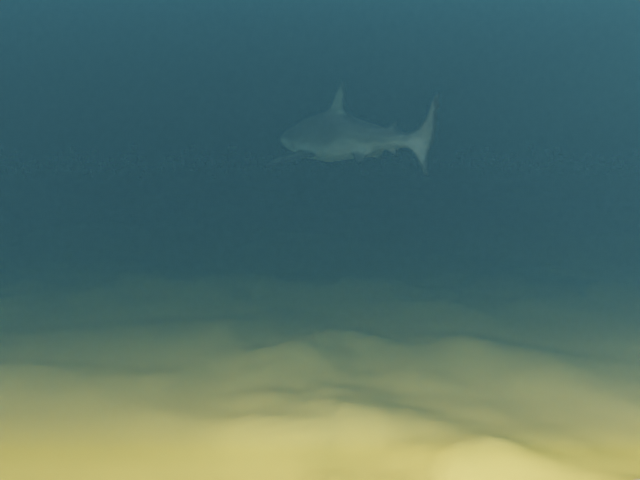Carribean Shark.001: (265, 82, 439, 174)
